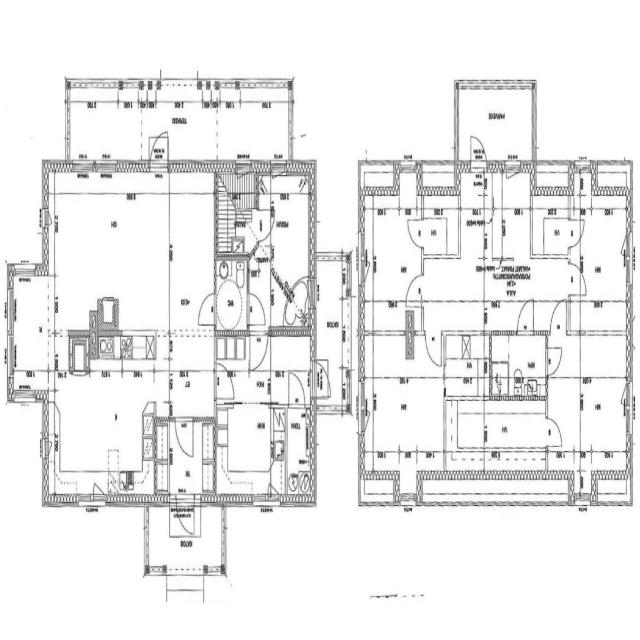door: (248, 322, 270, 372), (173, 414, 195, 460), (214, 363, 236, 406), (149, 127, 170, 172), (196, 288, 217, 330), (423, 329, 444, 368), (175, 498, 196, 537), (544, 413, 564, 452), (515, 297, 535, 335), (548, 297, 568, 335), (287, 371, 307, 408), (247, 289, 266, 326), (568, 262, 587, 299), (256, 205, 274, 244), (544, 342, 564, 377), (404, 271, 424, 306), (313, 361, 331, 399), (406, 214, 424, 249), (470, 130, 486, 166), (568, 214, 584, 250), (482, 201, 495, 227)
window: (11, 383, 38, 409), (92, 156, 119, 181), (76, 490, 105, 513), (4, 285, 16, 340), (49, 222, 61, 277), (73, 157, 97, 182), (12, 260, 36, 281)
zone: (45, 164, 169, 338), (48, 332, 168, 500), (361, 346, 446, 458), (170, 164, 217, 332), (361, 207, 421, 330), (580, 362, 631, 503), (215, 402, 283, 499), (269, 176, 312, 324), (578, 205, 630, 312), (10, 272, 54, 390), (315, 257, 348, 384), (167, 419, 215, 502), (168, 331, 216, 413), (490, 332, 547, 401), (215, 166, 256, 255), (443, 330, 489, 398), (214, 252, 249, 338), (286, 404, 314, 504), (530, 208, 576, 260), (533, 162, 573, 212), (421, 161, 458, 213), (421, 211, 455, 258)
